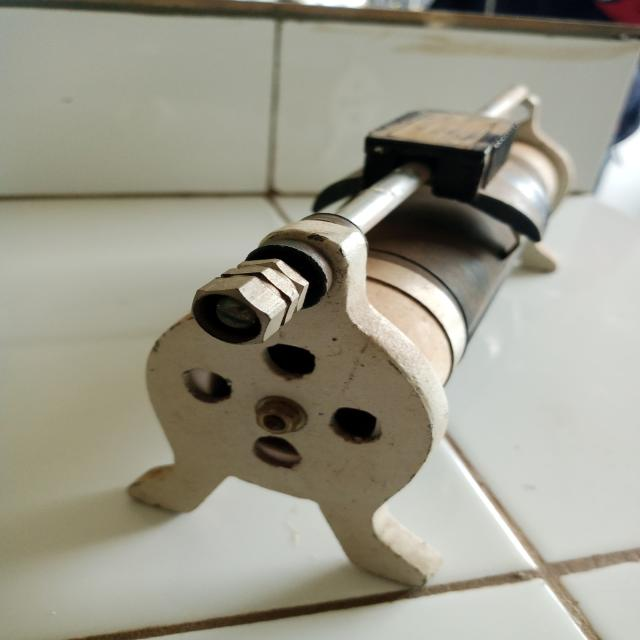Rheostat: (97, 72, 580, 592)
